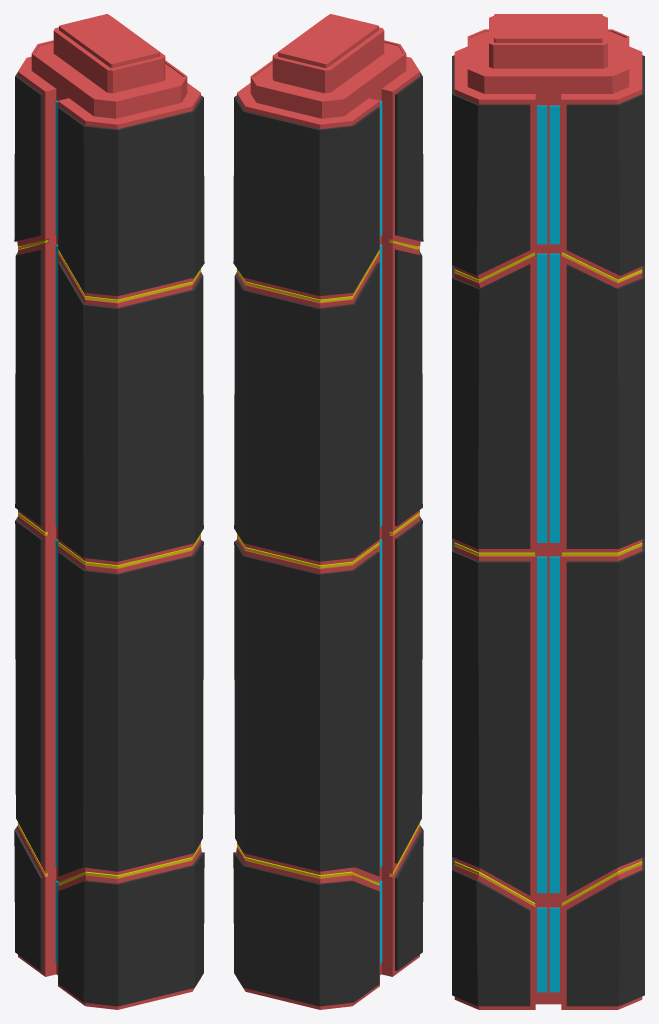
The model's file is Building2.fbx.
3 renders of one model, left to right at view 1: azimuth 30°, elevation 25°; view 2: azimuth 150°, elevation 25°; view 3: azimuth 270°, elevation 25°, orthographic. The views are drawn at different scales.
Visible parts, largest first — view 1: Building2, Windows1; view 2: Building2, Windows1; view 3: Building2, Windows1.
Part boxes in pixels (x1,y1,x2,y2): Building2: (14, 14, 204, 1009); Windows1: (55, 100, 60, 963); Building2: (233, 14, 423, 1009); Windows1: (377, 100, 382, 963); Building2: (452, 14, 644, 1009); Windows1: (537, 105, 559, 992).
Size of the model in its own units: 5431 by 40118 by 7347.
